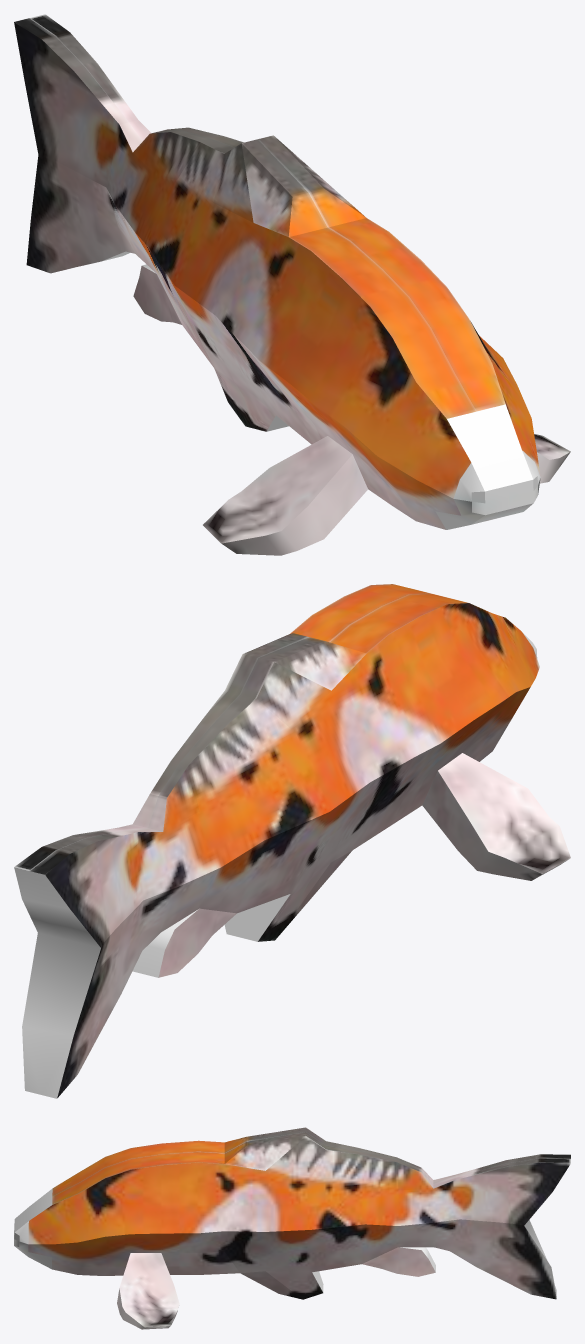
Rendered from koi.model.v3.fbx.
3 renders of one model, top to bottom at view 1: azimuth 30°, elevation 25°; view 2: azimuth 150°, elevation 25°; view 3: azimuth 270°, elevation 25°, orthographic. The views are drawn at different scales.
Parts seen in each view (by area): view 1: polySurface9; view 2: polySurface9; view 3: polySurface9.
Part boxes in pixels (bbox=[...]): polySurface9: bbox=[14, 14, 570, 555]; polySurface9: bbox=[14, 584, 570, 1098]; polySurface9: bbox=[14, 1127, 570, 1329].
Bounding box in the file's own units: 4.48 × 3.46 × 10.69.
